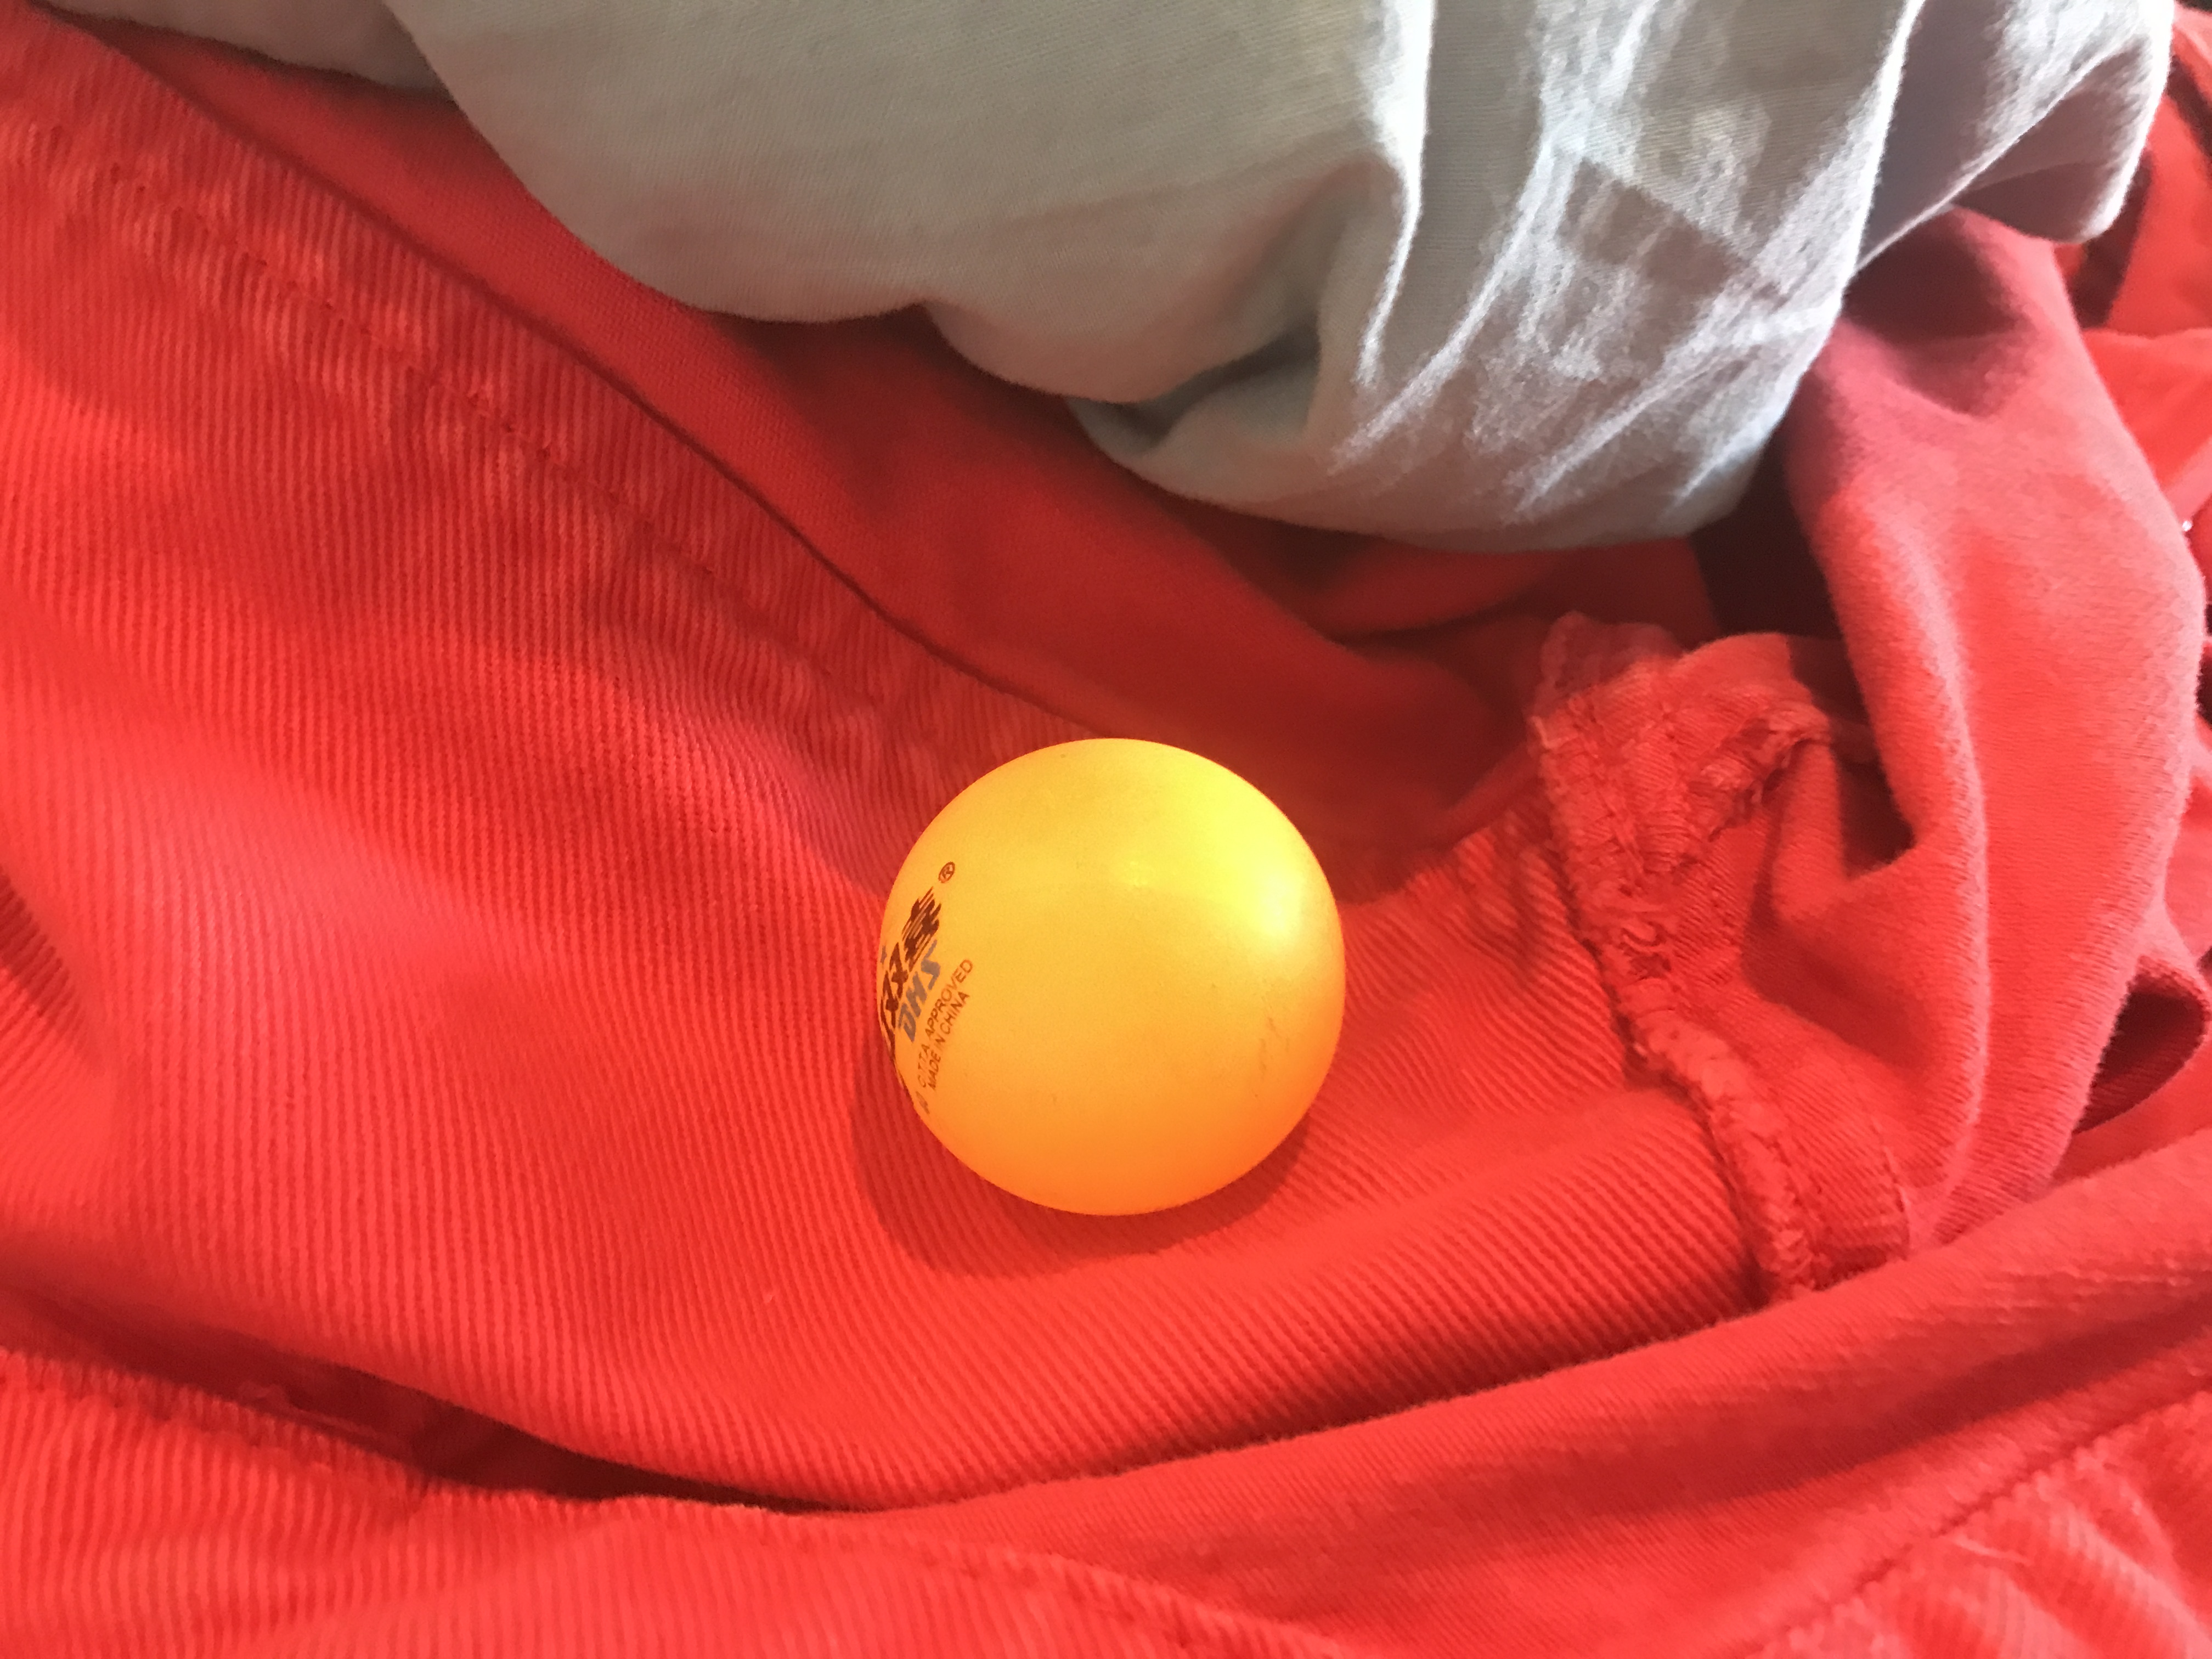pp: (871, 735, 1350, 1215)
